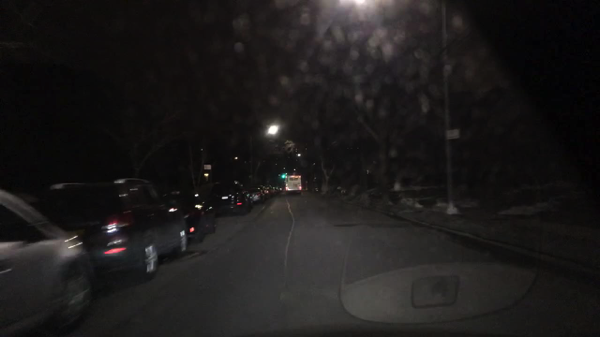bus: (285, 176, 303, 195)
car: (0, 187, 98, 337), (42, 178, 188, 277), (160, 187, 220, 244), (207, 179, 254, 217), (249, 188, 268, 202), (256, 185, 271, 198), (266, 184, 277, 196), (273, 186, 282, 192)
traffic light: (280, 173, 286, 178)
traffic sign: (445, 129, 462, 141), (203, 165, 212, 170)
